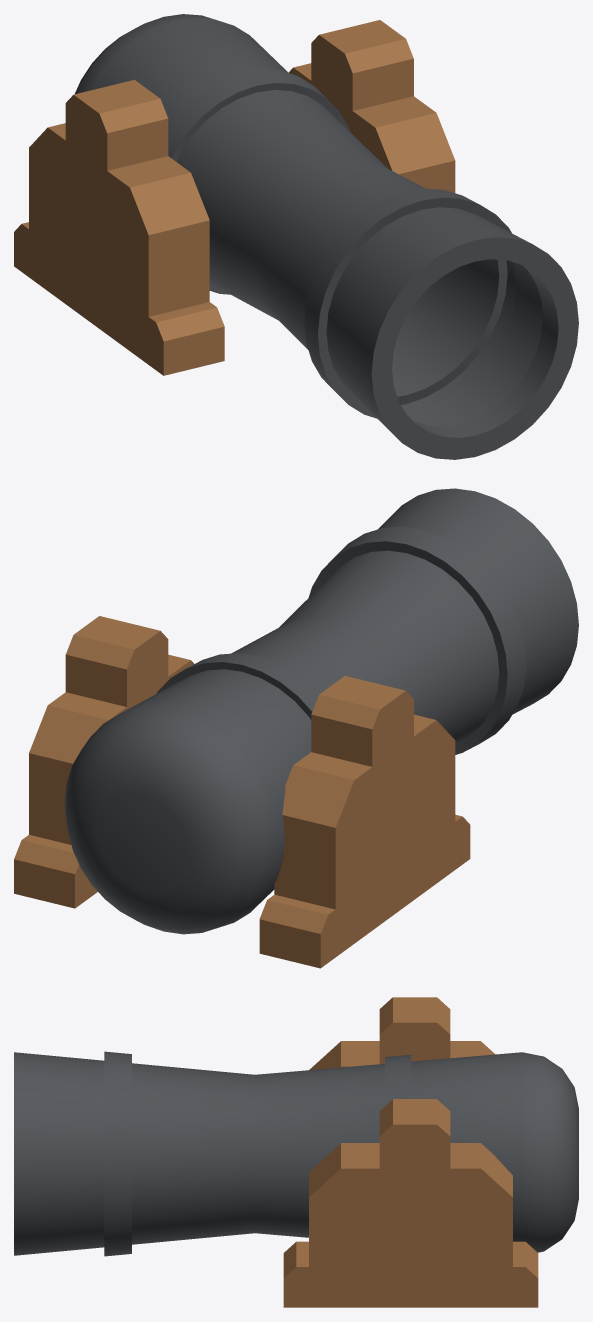
The model's file is patrakna.fbx.
3 views of the same model, one above another, from view 1: azimuth 30°, elevation 25°; view 2: azimuth 150°, elevation 25°; view 3: azimuth 270°, elevation 25° (orthographic). The views are drawn at different scales.
Parts seen in each view (by area): view 1: Cylinder, Cube, Cube.001; view 2: Cylinder, Cube, Cube.001; view 3: Cylinder, Cube.001, Cube.
Boxes of the visible parts, x1,y1,x2,y2 form: Cylinder: (75,14,578,459); Cube: (14,80,224,375); Cube.001: (288,20,455,192); Cylinder: (64,488,578,934); Cube: (259,676,470,968); Cube.001: (14,616,194,908); Cylinder: (14,1051,578,1256); Cube.001: (283,1099,538,1307); Cube: (309,997,495,1070).
Bounding box in the file's own units: 296 × 202 × 554.
